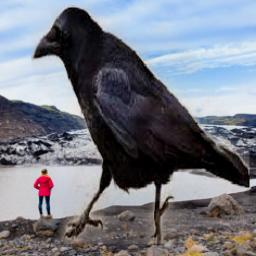Crow: (33, 6, 251, 245)
